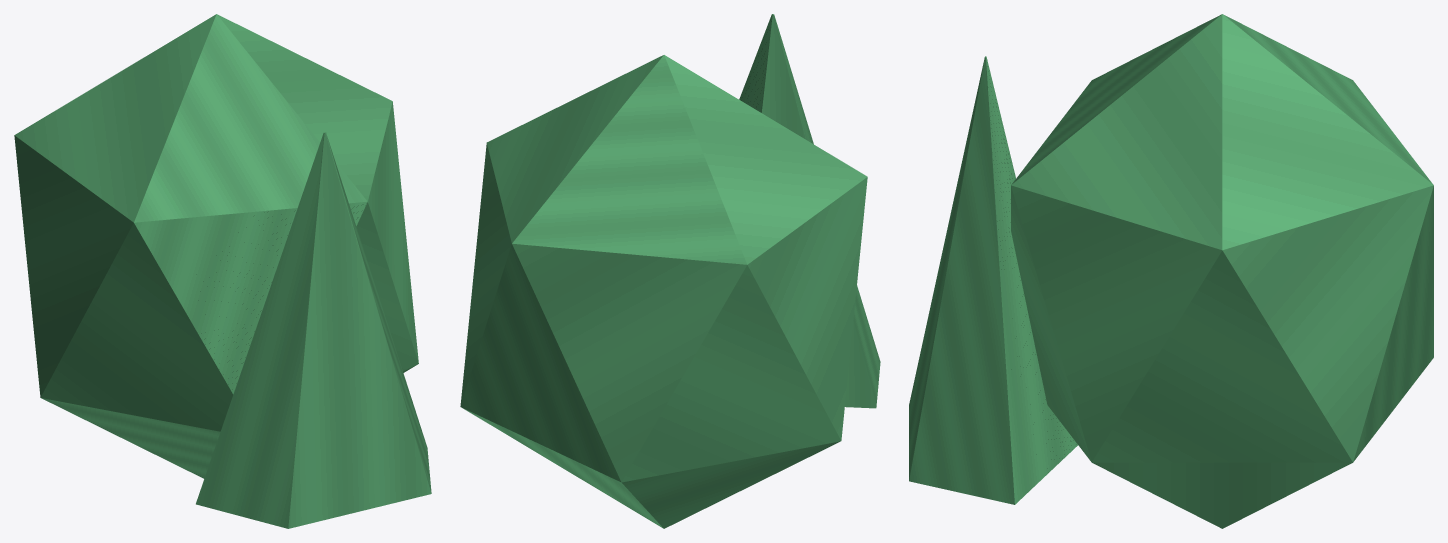
File: hit_echo.glb
The picture shows the model from 3 angles, left to right: view 1: azimuth 30°, elevation 25°; view 2: azimuth 150°, elevation 25°; view 3: azimuth 270°, elevation 25°; orthographic projection. The views are drawn at different scales.
Parts seen in each view (by area): view 1: gear_hit_echo; view 2: gear_hit_echo; view 3: gear_hit_echo.
Boxes of the visible parts, x1,y1,x2,y2 form: gear_hit_echo: (14, 14, 431, 528); gear_hit_echo: (460, 14, 880, 528); gear_hit_echo: (909, 14, 1433, 528).
Bounding box in the file's own units: 0.1878 × 0.24 × 0.2217.
Materials: 1 (1 with a texture image).
